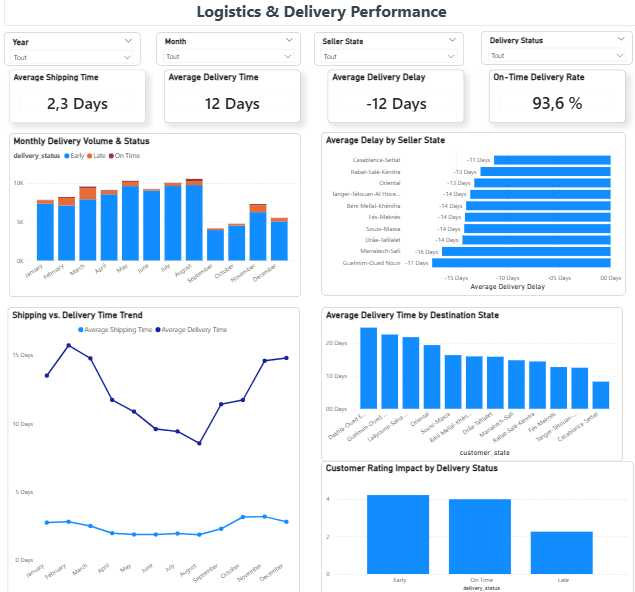

The dashboard page shown, as its layout file describes it:
{"tool":"powerbi","page":{"name":"Logistics & Delivery Performance","canvas":[1280,1200],"ordinal":1},"visuals":[{"type":"textbox","box":[10,0,1270,60],"z":0},{"type":"slicer","fields":{"Values":["chrily vw_sales.year"]},"box":[10,71.2,272.5,66.2],"z":1000},{"type":"slicer","fields":{"Values":["chrily vw_sales.month_name"]},"box":[313.8,71.2,288.8,66.2],"z":2000},{"type":"slicer","fields":{"Values":["chrily vw_sales.seller_state"]},"box":[630,71.2,300,66.2],"z":3000},{"type":"slicer","fields":{"Values":["chrily vw_sales.delivery_status"]},"box":[965,70,302.5,67.5],"z":4000},{"type":"cardVisual","title":"Average Shipping Time","fields":{"Data":["Measures (2).Average Shipping Time"]},"box":[20,147.5,272.5,106.2],"z":5000},{"type":"cardVisual","title":"Average Delivery Time","fields":{"Data":["Measures (2).Average Delivery Time"]},"box":[330,147.5,272.5,106.2],"z":6000},{"type":"cardVisual","title":"Average Delivery Delay","fields":{"Data":["Measures (2).Average Delivery Delay"]},"box":[657.5,147.5,272.5,106.2],"z":7000},{"type":"cardVisual","title":"On-Time Delivery Rate","fields":{"Data":["Measures (2).On-Time Delivery Rate"]},"box":[980,147.5,272.5,106.2],"z":8000},{"type":"columnChart","title":"Monthly Delivery Volume & Status","fields":{"Category":["chrily vw_sales.month_name"],"Y":["Measures (2).Total Orders"],"Series":["chrily vw_sales.delivery_status"]},"box":[20,274,584,326],"z":9000},{"type":"clusteredBarChart","title":"Average Delay by Seller State","fields":{"Category":["chrily vw_sales.seller_state"],"Y":["Measures (2).Average Delivery Delay"]},"box":[645,273.3,608.3,326.7],"z":10000},{"type":"lineChart","title":"Shipping vs. Delivery Time Trend","fields":{"Category":["chrily vw_sales.month_name"],"Y":["Measures (2).Average Shipping Time","Measures (2).Average Delivery Time"]},"box":[18,622,584,578],"z":11000},{"type":"clusteredColumnChart","title":"Average Delivery Time by Destination State","fields":{"Y":["Measures (2).Average Delivery Time"],"Category":["chrily vw_sales.customer_state"]},"box":[646,622,602,308],"z":12000},{"type":"clusteredColumnChart","title":"Customer Rating Impact by Delivery Status","fields":{"Category":["chrily vw_sales.delivery_status"],"Y":["Measures (2).Average Review Score"]},"box":[646,930,624,270],"z":13000}]}

Visuals, with their boxes in screenshot pixels (x1, y1, x2, y2), scaled from the page's 1280x1200 canvas onto the 635x592 screenshot:
textbox: {"x1": 5, "y1": 0, "x2": 634, "y2": 30}
slicer - chrily vw_sales.year: {"x1": 5, "y1": 35, "x2": 140, "y2": 68}
slicer - chrily vw_sales.month_name: {"x1": 156, "y1": 35, "x2": 299, "y2": 68}
slicer - chrily vw_sales.seller_state: {"x1": 313, "y1": 35, "x2": 461, "y2": 68}
slicer - chrily vw_sales.delivery_status: {"x1": 479, "y1": 35, "x2": 629, "y2": 68}
"Average Shipping Time" cardVisual: {"x1": 10, "y1": 73, "x2": 145, "y2": 125}
"Average Delivery Time" cardVisual: {"x1": 164, "y1": 73, "x2": 299, "y2": 125}
"Average Delivery Delay" cardVisual: {"x1": 326, "y1": 73, "x2": 461, "y2": 125}
"On-Time Delivery Rate" cardVisual: {"x1": 486, "y1": 73, "x2": 621, "y2": 125}
"Monthly Delivery Volume & Status" columnChart: {"x1": 10, "y1": 135, "x2": 300, "y2": 296}
"Average Delay by Seller State" clusteredBarChart: {"x1": 320, "y1": 135, "x2": 622, "y2": 296}
"Shipping vs. Delivery Time Trend" lineChart: {"x1": 9, "y1": 307, "x2": 299, "y2": 591}
"Average Delivery Time by Destination State" clusteredColumnChart: {"x1": 320, "y1": 307, "x2": 619, "y2": 459}
"Customer Rating Impact by Delivery Status" clusteredColumnChart: {"x1": 320, "y1": 459, "x2": 630, "y2": 591}
